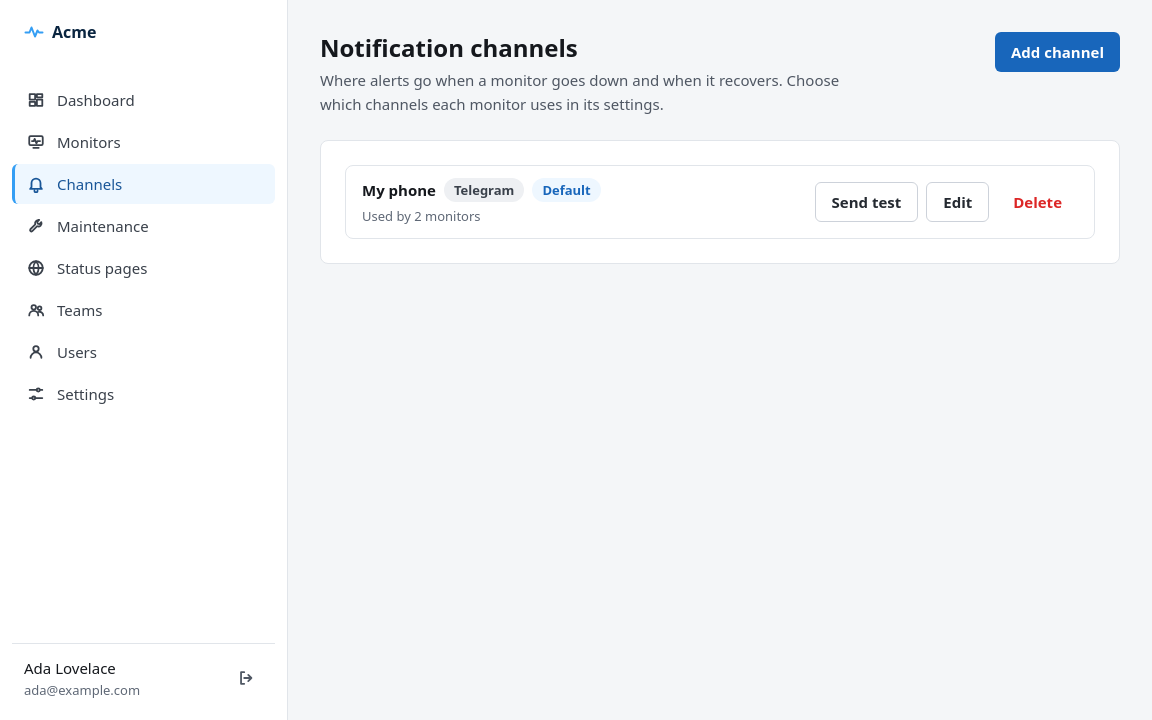
ChannelsPage › sends a test message and shows delivery errors from the API
Click the button with aria-label "Send test: My phone".
click(866, 202)  # box [814, 182, 918, 222]
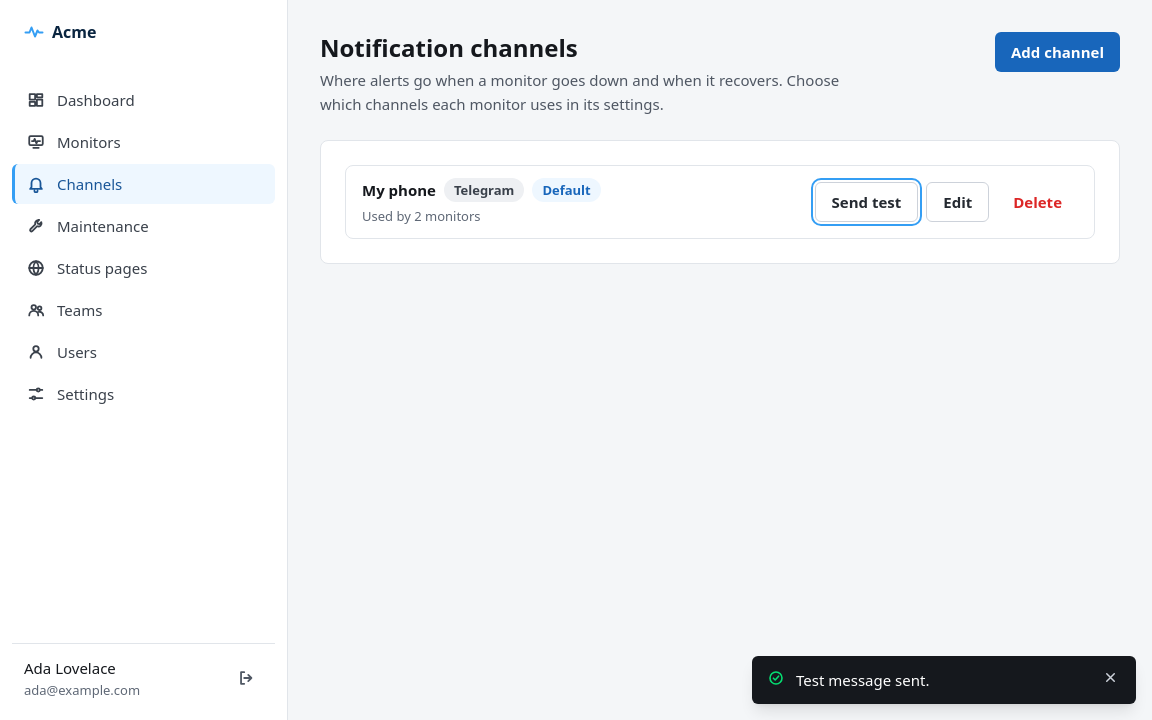
Expected: the text "Test message sent." is shown, [796, 670, 930, 690]
Click the button with aria-label "Send test: My phone".
click(866, 202)  # box [814, 182, 918, 222]
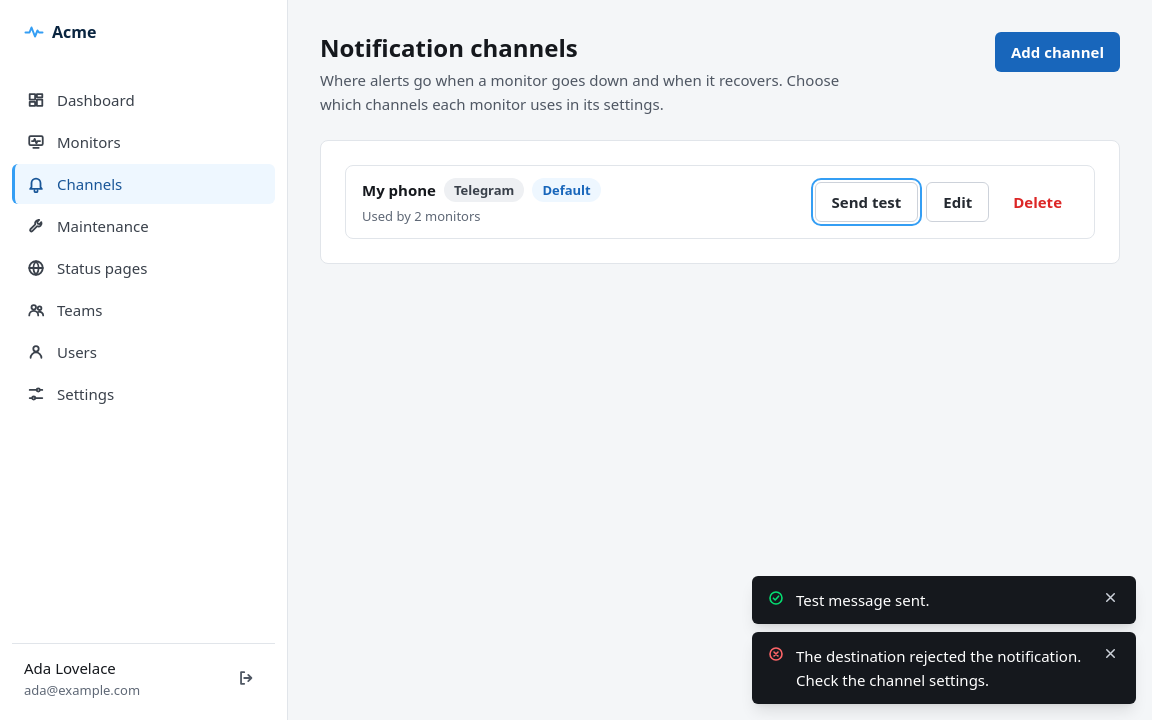
Expected: the text "The destination rejected the notification. Check the channel settings." is shown, [796, 644, 1089, 692]
